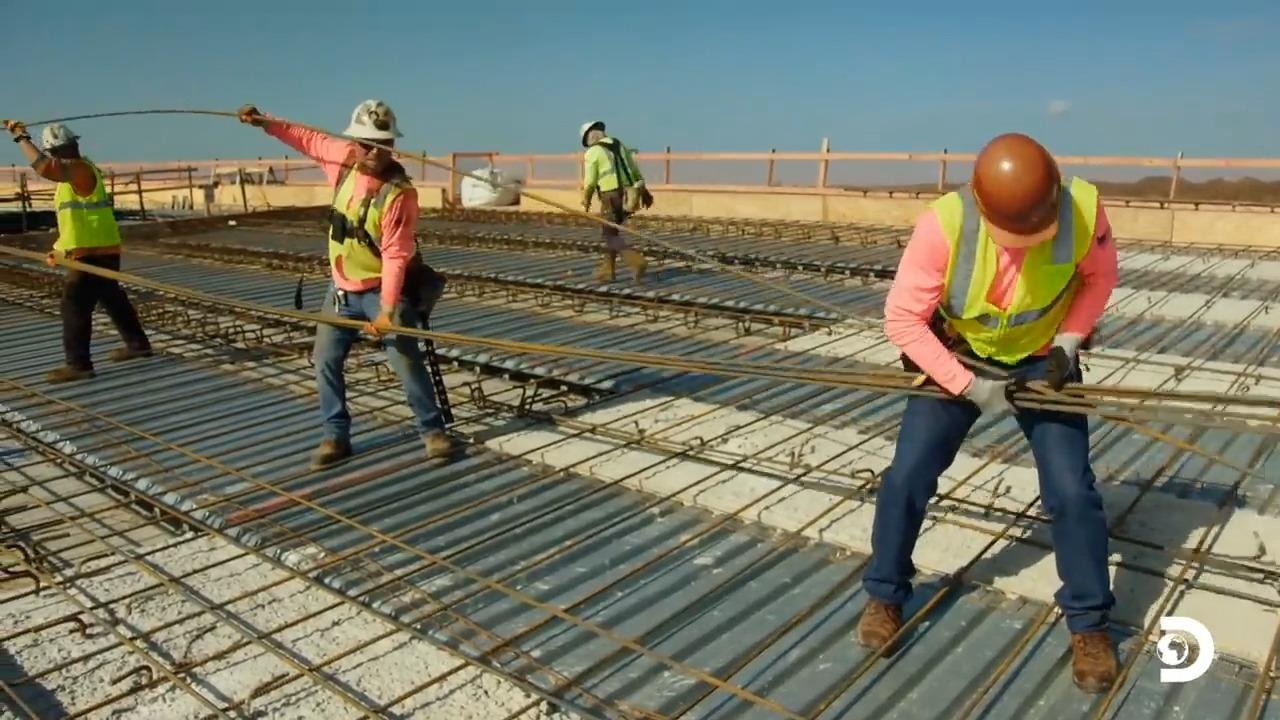Gloves: (963, 371, 1020, 424), (1046, 344, 1081, 386), (236, 98, 260, 129), (364, 312, 392, 338), (3, 116, 30, 141)
Helmet: (970, 132, 1061, 236), (341, 98, 403, 140), (40, 122, 80, 150), (579, 120, 605, 145)
Person: (855, 132, 1121, 694), (247, 99, 465, 471), (2, 118, 153, 382), (579, 119, 652, 284), (589, 149, 635, 189)
Safety Boot: (1071, 627, 1130, 692), (858, 598, 909, 648), (423, 431, 458, 466), (44, 368, 96, 385), (108, 345, 152, 362), (626, 256, 649, 280), (593, 265, 616, 282)
Safety Vest: (947, 204, 1085, 342), (329, 163, 402, 287), (58, 189, 113, 251)
no-vest: (306, 439, 354, 467)
